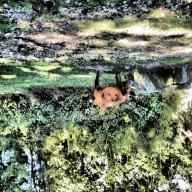boar: (91, 70, 136, 108)
